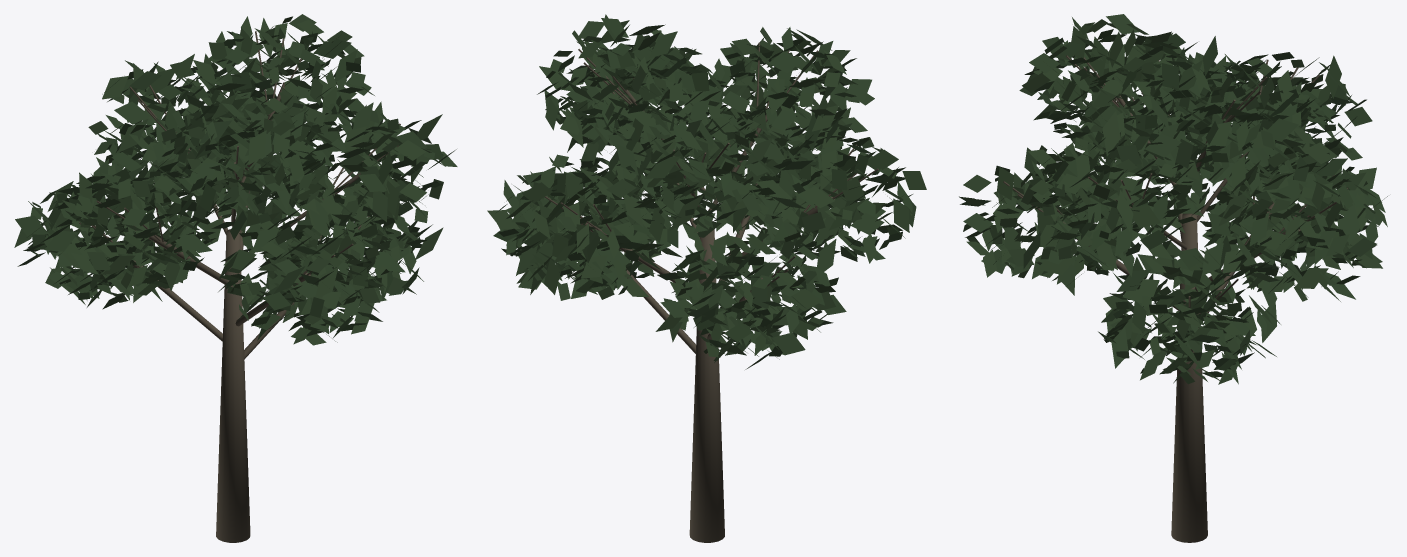
Rendered from oak-tree.glb.
3 views of the same model, side by side, from view 1: azimuth 30°, elevation 25°; view 2: azimuth 150°, elevation 25°; view 3: azimuth 270°, elevation 25° (orthographic). The views are drawn at different scales.
Parts seen in each view (by area): view 1: Wind in canopy, Trunk and branches; view 2: Wind in canopy, Trunk and branches; view 3: Wind in canopy, Trunk and branches.
Part boxes in pixels (x1,y1,x2,y2): Wind in canopy: (14, 14, 457, 345); Trunk and branches: (79, 31, 400, 542); Wind in canopy: (487, 14, 926, 369); Trunk and branches: (544, 42, 878, 542); Wind in canopy: (959, 14, 1387, 384); Trunk and branches: (1003, 55, 1347, 542).
Bounding box in the file's own units: 7.12 × 8.72 × 6.68.
